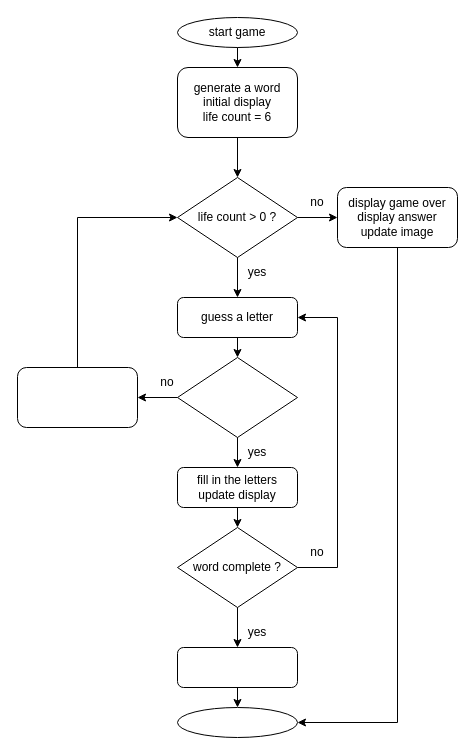
Image size: 475x755. Some labels were removed from this diagram. Here are the shapes that lost their labels. From the top down, the centre of each, then its label:
the point at 77,397: life count - 1 update Image
the point at 237,397: correct ?
the point at 237,667: display winning msg
the point at 237,722: end game
